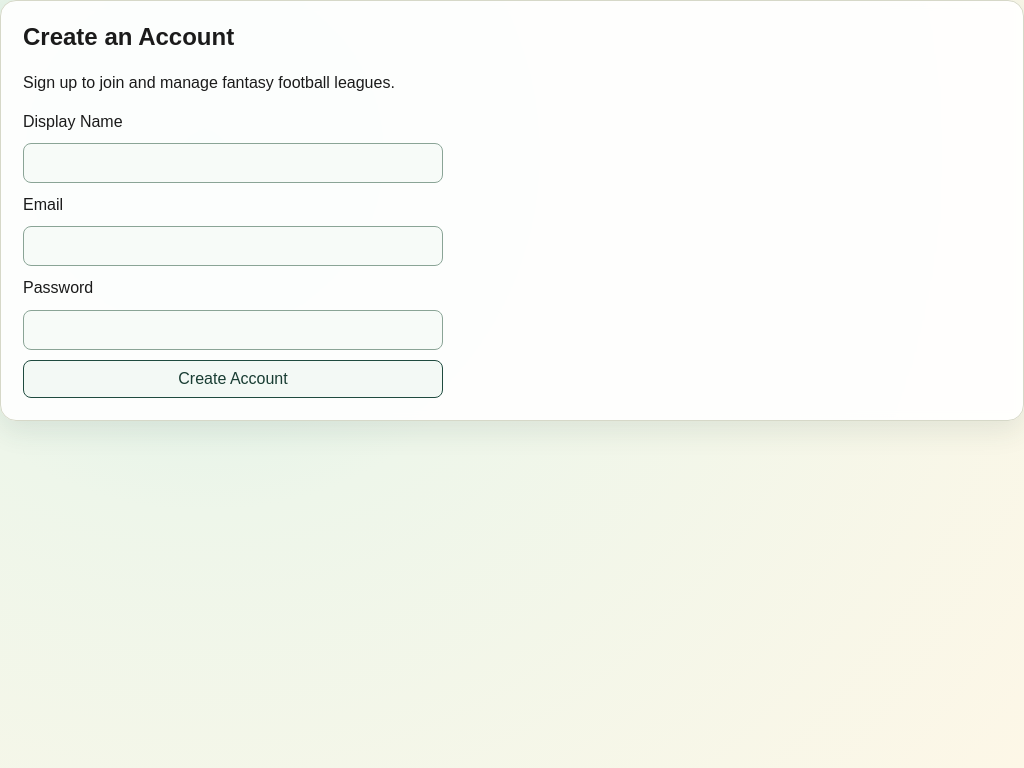
it: RegisterPage › shows inline field error when displayName is too short
Step 1. Type "A" into the field labelled "Display Name" → coordinates (233, 163), box [23,143,443,183]
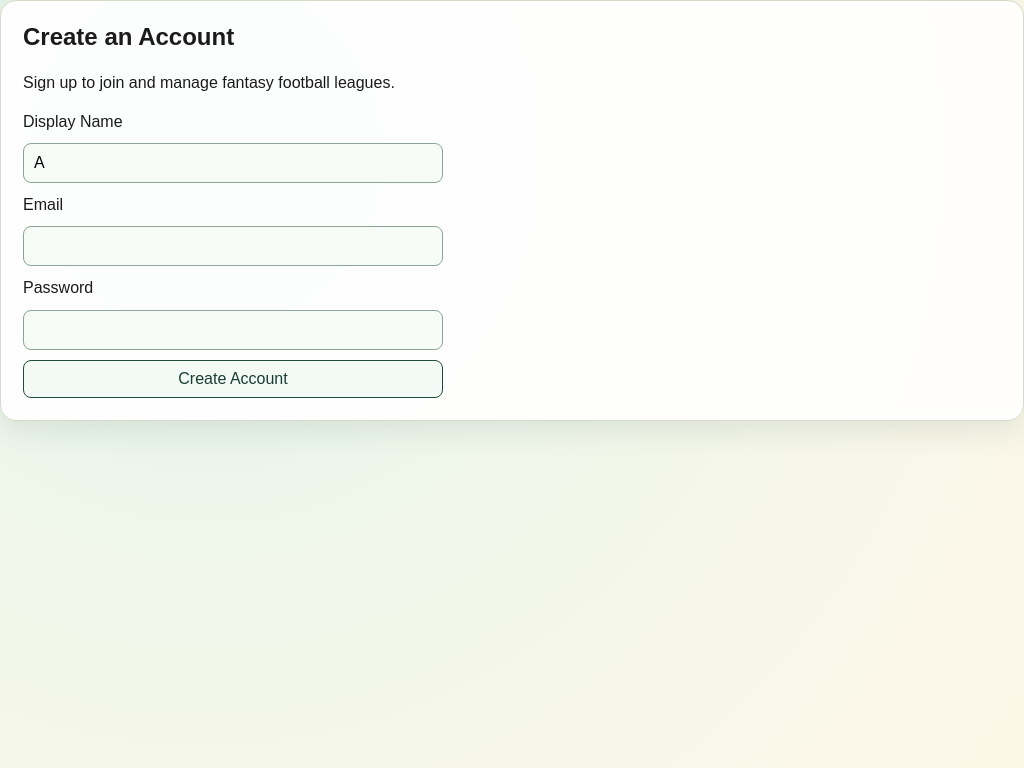
Step 2. Type "test@example.com" into the field labelled "Email" → coordinates (233, 246), box [23,226,443,266]
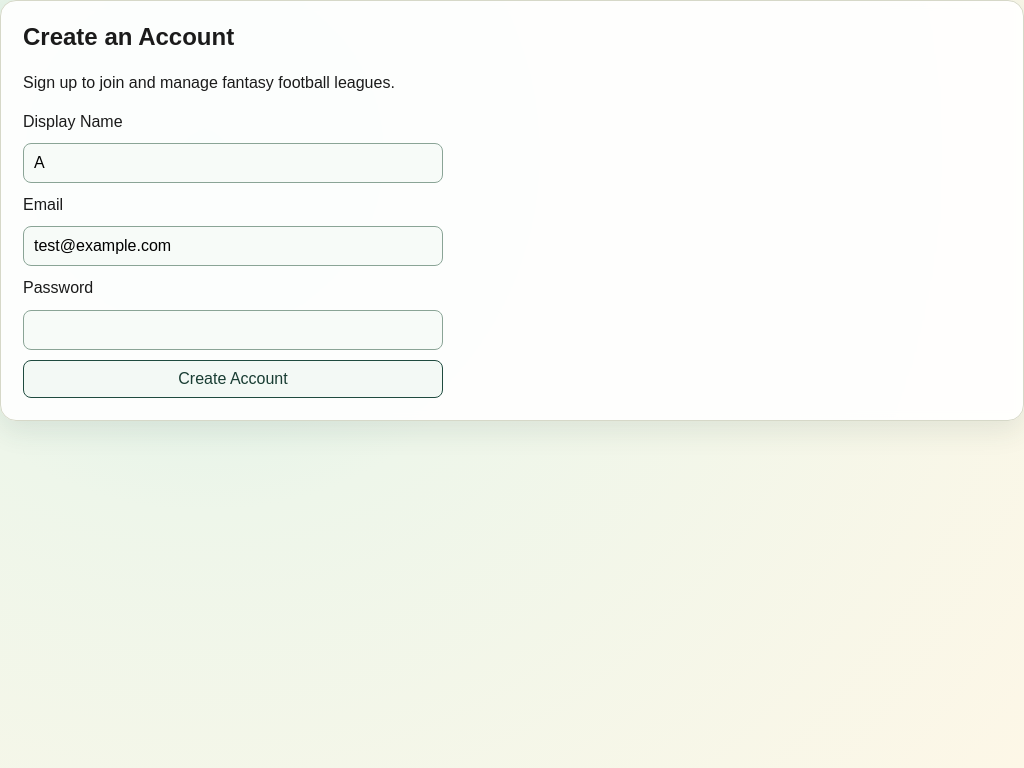
Step 3. Type "securepass1" into the password field labelled "Password" → coordinates (233, 330), box [23,310,443,350]
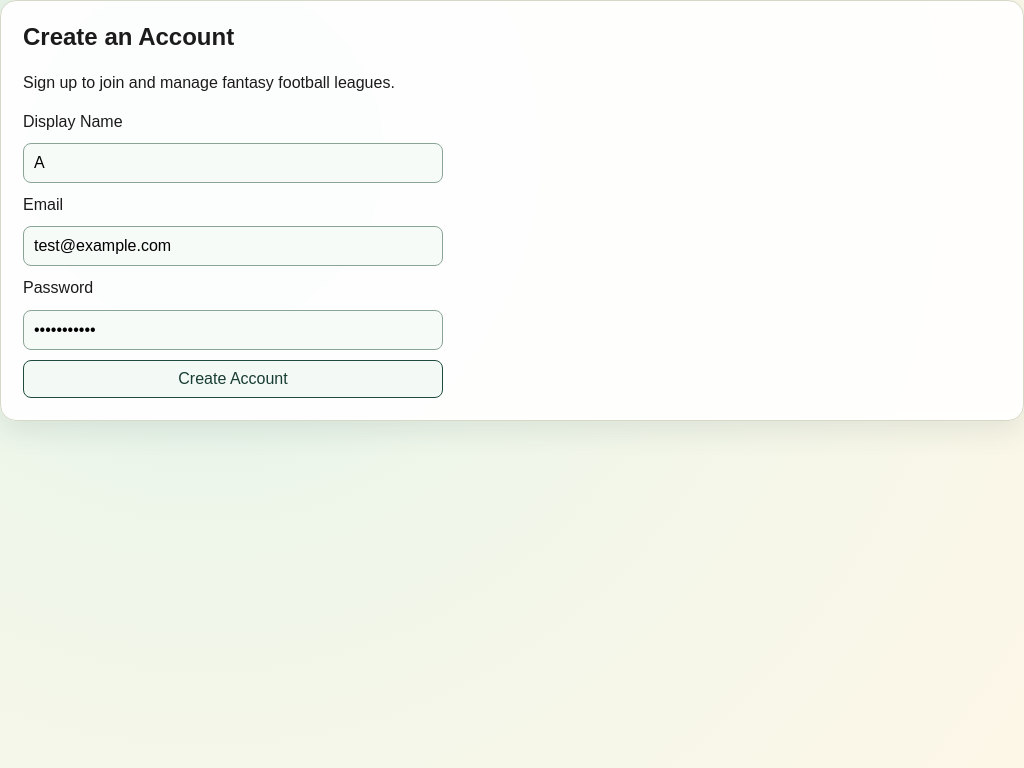
Step 4. Click the button "Create Account" → coordinates (233, 379), box [23,360,443,398]
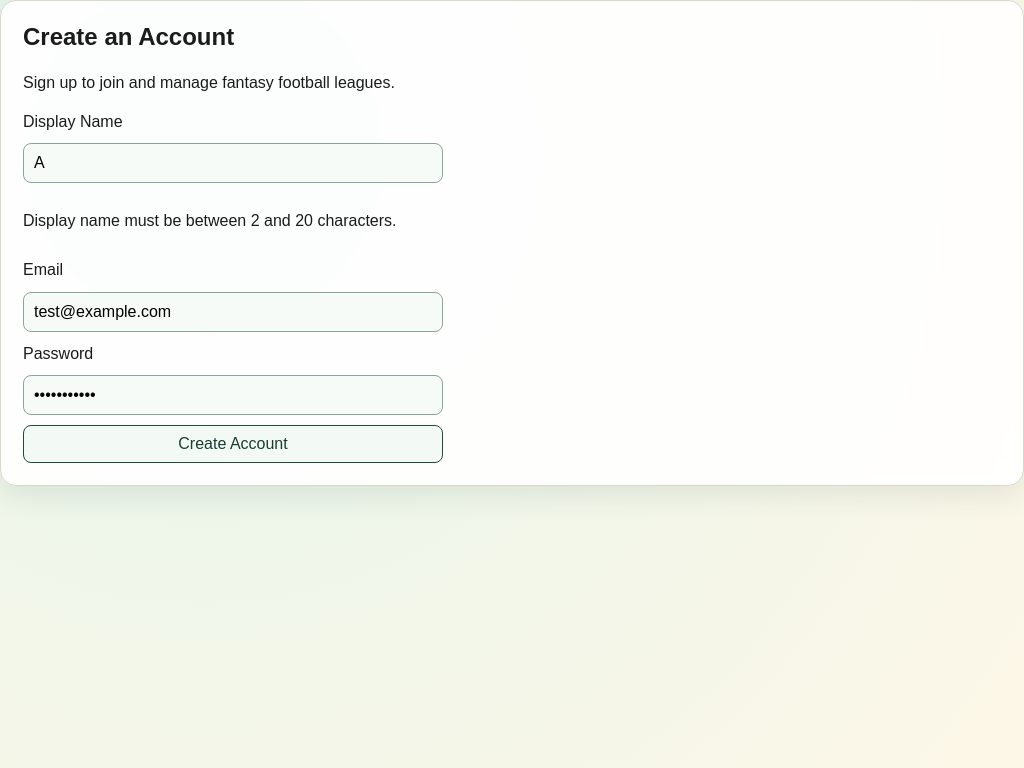
Now the text "Display name must be between 2 and 20 characters." is shown, box [23,209,443,232]
